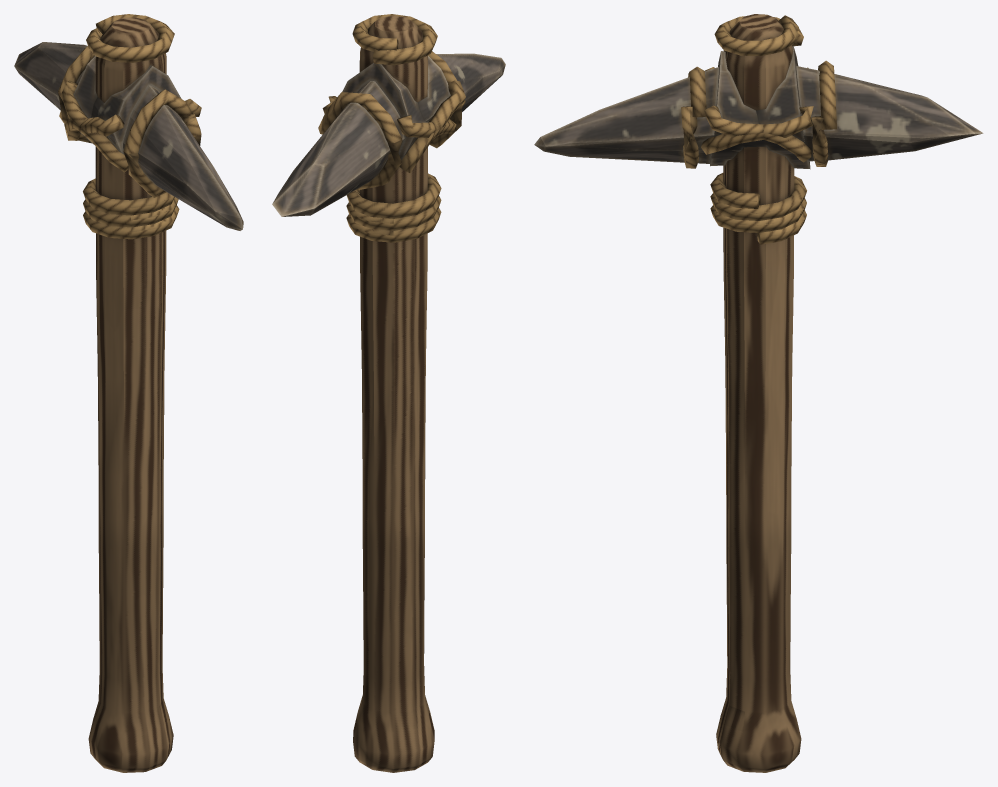
The model's file is wooden_pickaxe.fbx.
3 renders of one model, left to right at view 1: azimuth 30°, elevation 25°; view 2: azimuth 150°, elevation 25°; view 3: azimuth 270°, elevation 25°, orthographic.
Parts seen in each view (by area): view 1: WoodenPickaxe_Handle; view 2: WoodenPickaxe_Handle; view 3: WoodenPickaxe_Handle.
Part boxes in pixels (x1,y1,x2,y2): WoodenPickaxe_Handle: (14,14,243,772); WoodenPickaxe_Handle: (272,14,505,772); WoodenPickaxe_Handle: (534,14,983,772).
Size of the model in its own units: 0.6562 by 4.5 by 2.49.
Materials: 1 (1 with a texture image).
